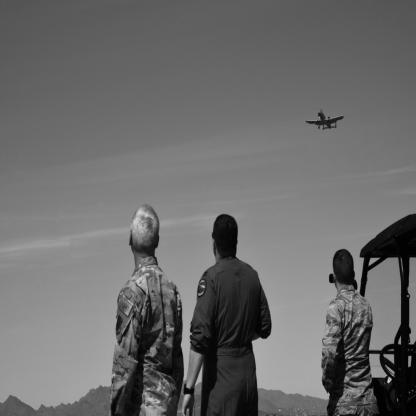A10: (306, 110, 346, 132)
